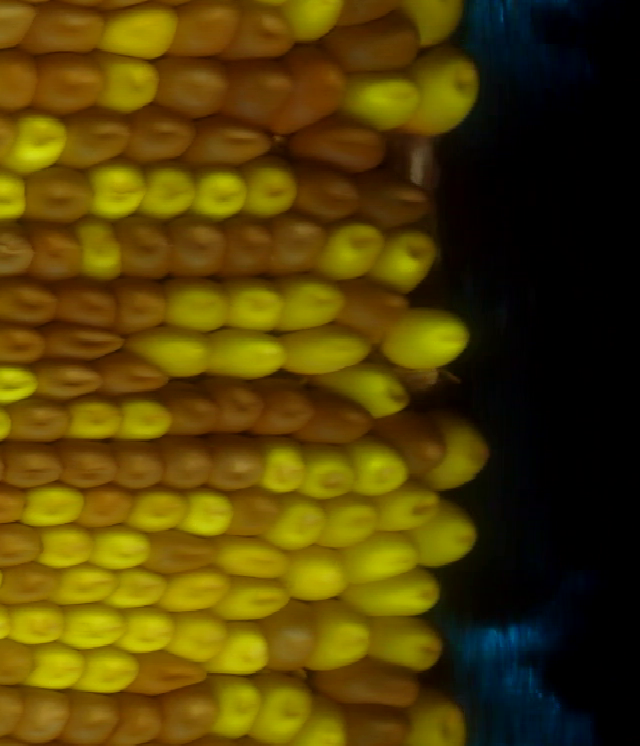fluorescent: (414, 40, 483, 138), (375, 309, 474, 370), (277, 324, 374, 376), (341, 70, 422, 132), (316, 367, 411, 418), (362, 611, 441, 672), (429, 414, 491, 490), (93, 49, 161, 116), (128, 327, 213, 380), (308, 597, 369, 670), (98, 7, 180, 61), (413, 499, 478, 566), (6, 106, 67, 176), (322, 217, 387, 282), (348, 574, 444, 618), (83, 153, 146, 219), (203, 328, 287, 377), (380, 222, 439, 291), (160, 276, 229, 335), (277, 277, 351, 332), (204, 671, 264, 738), (223, 272, 282, 338), (240, 156, 302, 218), (283, 545, 354, 598), (259, 674, 312, 745), (350, 437, 411, 498), (301, 443, 361, 502), (71, 217, 124, 281), (144, 159, 197, 222), (109, 395, 174, 445), (412, 687, 467, 746), (345, 539, 422, 581), (376, 483, 439, 534), (270, 496, 328, 551), (170, 608, 229, 662), (77, 646, 141, 695), (192, 164, 246, 222), (216, 576, 287, 620), (22, 482, 87, 528), (323, 493, 377, 548), (55, 565, 123, 608), (165, 565, 227, 612), (30, 641, 86, 693), (127, 487, 190, 533), (8, 599, 65, 649), (62, 396, 125, 441), (218, 623, 272, 675), (261, 435, 307, 496), (60, 606, 123, 650), (218, 538, 288, 577), (37, 523, 96, 569), (181, 488, 234, 538), (91, 527, 151, 571), (122, 607, 177, 654), (113, 565, 167, 612), (304, 699, 345, 746), (0, 364, 38, 407)
nonfluorescent: (313, 14, 425, 71), (281, 45, 348, 133), (29, 49, 106, 116), (155, 53, 234, 117), (261, 596, 323, 676), (293, 120, 388, 172), (183, 113, 280, 162), (317, 664, 423, 708), (376, 408, 443, 477), (119, 108, 197, 166), (109, 217, 176, 283), (359, 176, 433, 234), (62, 106, 130, 169), (150, 382, 225, 439), (22, 165, 93, 224), (227, 60, 292, 123), (24, 3, 104, 54), (340, 277, 404, 340), (295, 167, 362, 227), (229, 2, 298, 59), (306, 387, 372, 445), (132, 648, 211, 696), (86, 351, 169, 396), (171, 2, 240, 56), (51, 278, 123, 329), (62, 687, 124, 746), (211, 367, 265, 434), (170, 217, 229, 278), (145, 528, 219, 574), (59, 439, 123, 492), (222, 216, 277, 277), (109, 281, 171, 335), (29, 222, 82, 285), (3, 396, 72, 444), (113, 688, 170, 746), (258, 377, 311, 439), (211, 435, 267, 493), (340, 701, 413, 745), (161, 686, 219, 741), (17, 686, 71, 745), (271, 216, 323, 275), (3, 441, 65, 490), (113, 434, 166, 491), (48, 323, 127, 360), (0, 277, 56, 329), (223, 488, 282, 537), (158, 439, 214, 490), (0, 49, 45, 112), (76, 482, 139, 527), (37, 360, 104, 401), (0, 562, 58, 607), (0, 223, 37, 282), (0, 525, 46, 571), (0, 323, 49, 365), (0, 635, 37, 690), (0, 2, 35, 50)
